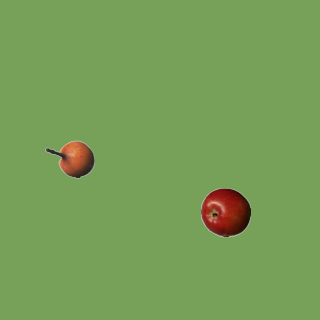Apple Braeburn: (200, 187, 250, 237)
Granadilla: (44, 134, 94, 184)
